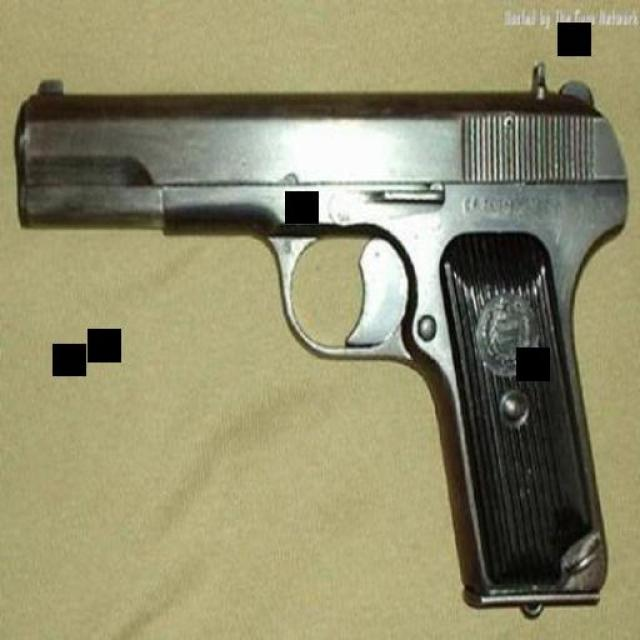gun: (9, 59, 628, 605)
